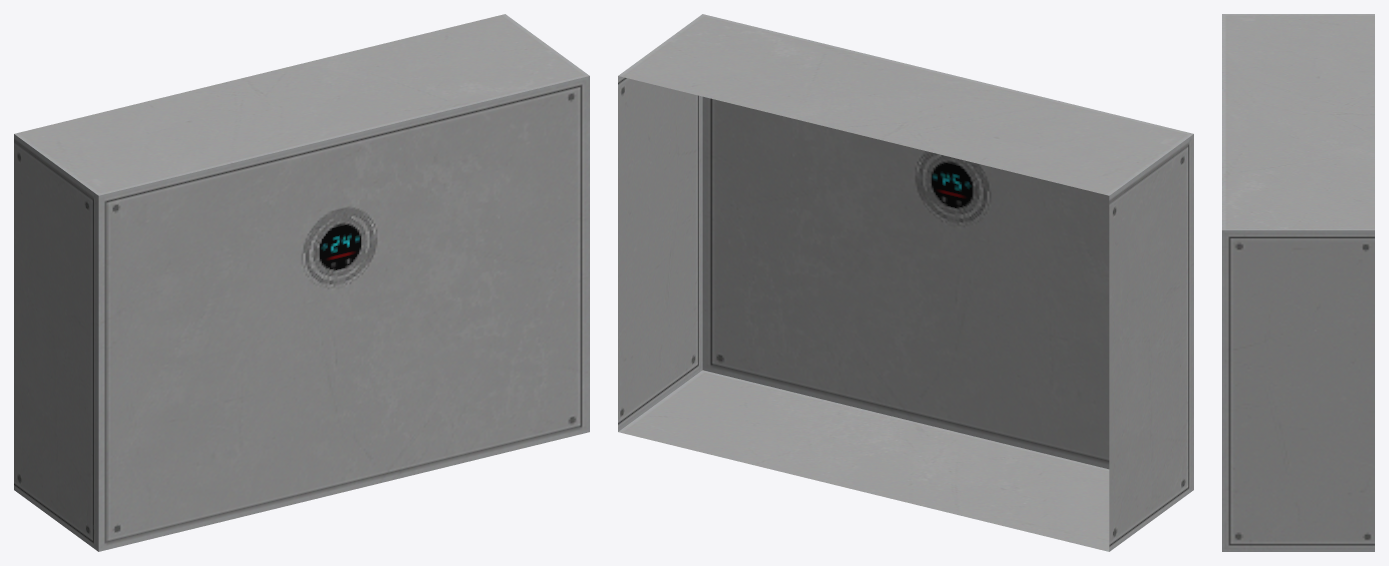
The model's file is Bakery_Ventilation_02.fbx.
3 renders of one model, left to right at view 1: azimuth 30°, elevation 25°; view 2: azimuth 150°, elevation 25°; view 3: azimuth 270°, elevation 25°, orthographic. The views are drawn at different scales.
Parts seen in each view (by area): view 1: Bakery_Ventilation_02; view 2: Bakery_Ventilation_02; view 3: Bakery_Ventilation_02.
Boxes of the visible parts, x1,y1,x2,y2 form: Bakery_Ventilation_02: [14, 14, 589, 551]; Bakery_Ventilation_02: [618, 14, 1193, 551]; Bakery_Ventilation_02: [1222, 14, 1374, 551].
Size of the model in its own units: 56.89 by 39.41 by 16.97.
